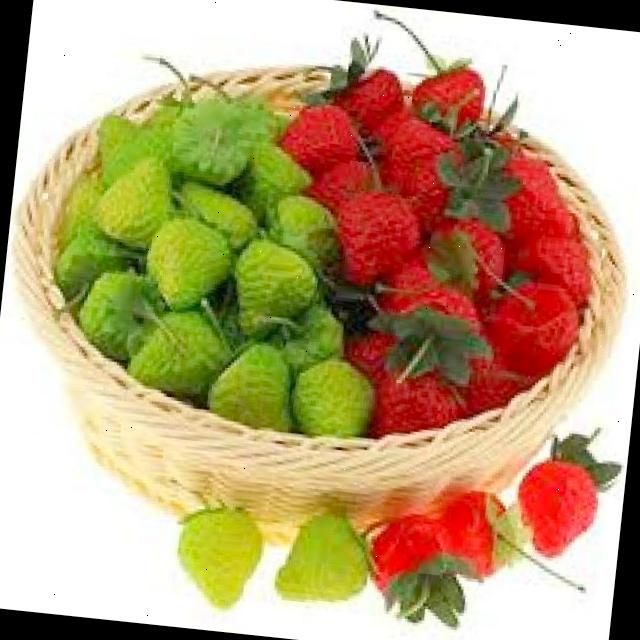strawberry: (274, 506, 374, 609), (172, 504, 266, 612), (128, 308, 238, 398), (230, 236, 322, 342), (514, 452, 602, 562), (206, 340, 298, 439), (145, 215, 234, 315), (332, 189, 420, 289), (292, 353, 376, 442), (98, 152, 176, 245), (410, 61, 488, 138)
